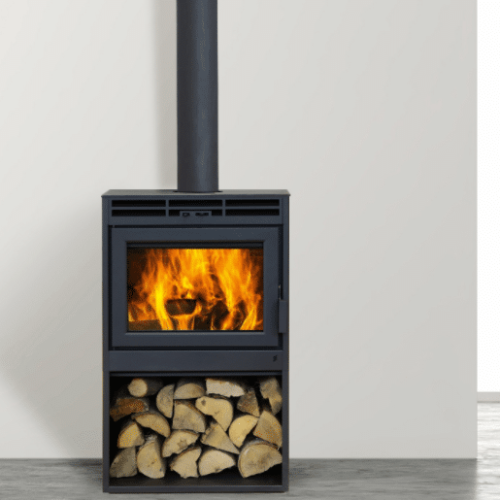stove: (95, 169, 293, 491)
